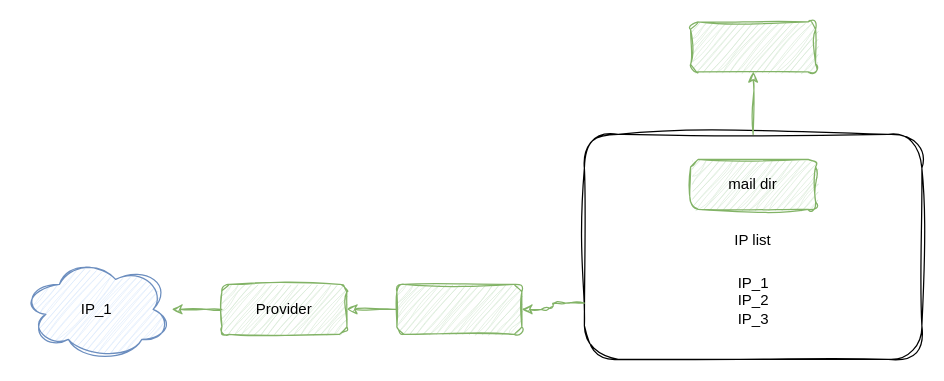
The diagram is 944 pixels wide and 381 high, and some of its shapes have lost their labels. The shapes that lost their labels are listed below. From the top down, each one's centre as x and y in pixels, then its label:
the point at 752,46: mail server
the point at 459,308: Router
